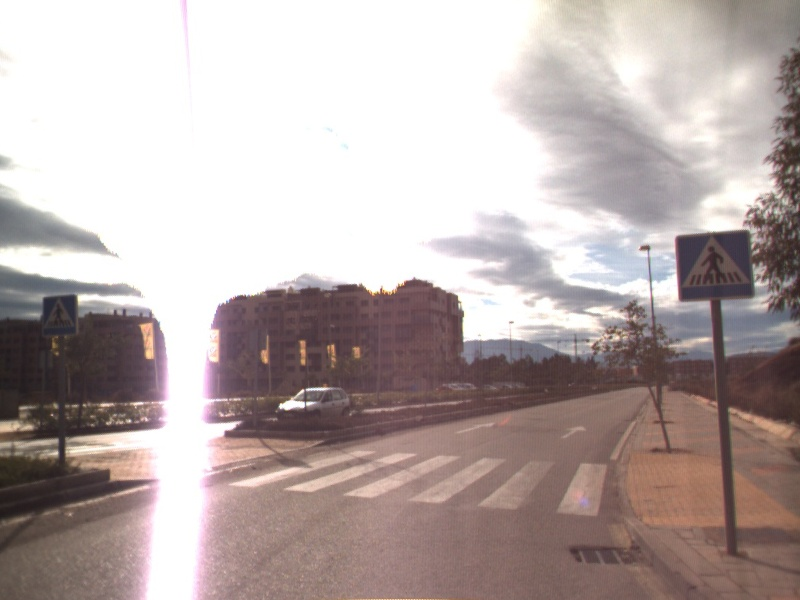STRAIGHT: (453, 420, 498, 435), (559, 423, 589, 440)
